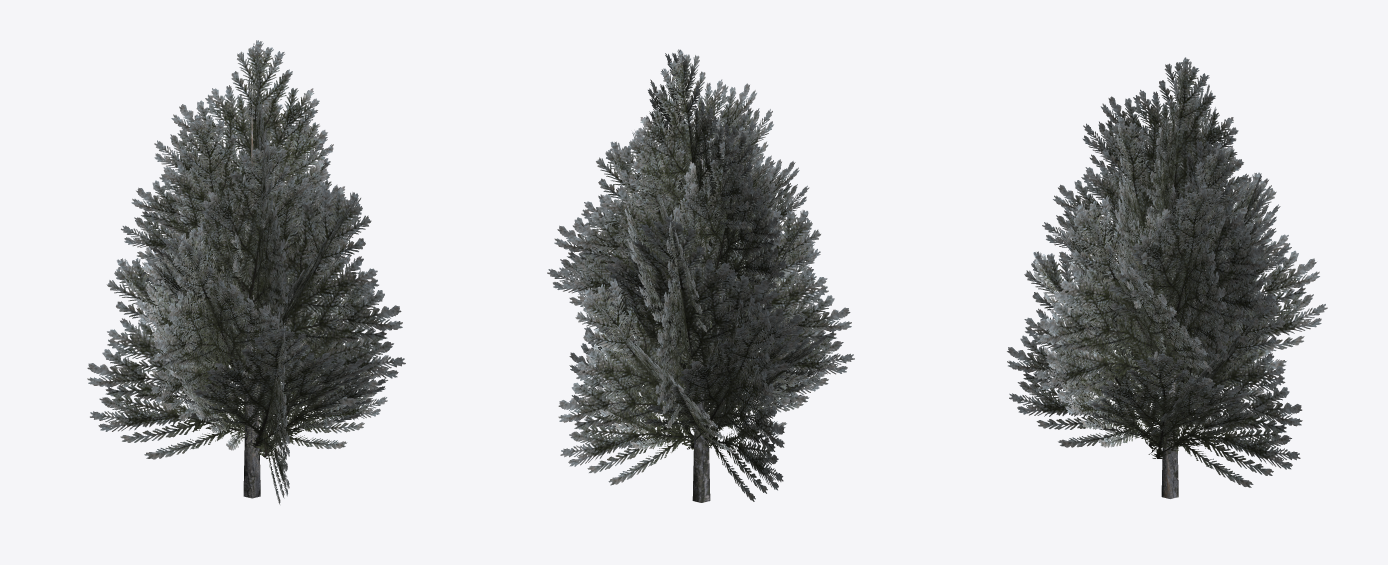
File: SC_bingfengyiji_02.FBX
3 renders of one model, left to right at view 1: azimuth 30°, elevation 25°; view 2: azimuth 150°, elevation 25°; view 3: azimuth 270°, elevation 25°, orthographic.
Parts seen in each view (by area): view 1: SC_bingfengyiji_02; view 2: SC_bingfengyiji_02; view 3: SC_bingfengyiji_02.
Part boxes in pixels (x1,y1,x2,y2): SC_bingfengyiji_02: (87,40,405,504); SC_bingfengyiji_02: (547,49,854,502); SC_bingfengyiji_02: (1007,57,1327,498).
Size of the model in its own units: 201 by 250 by 207.
